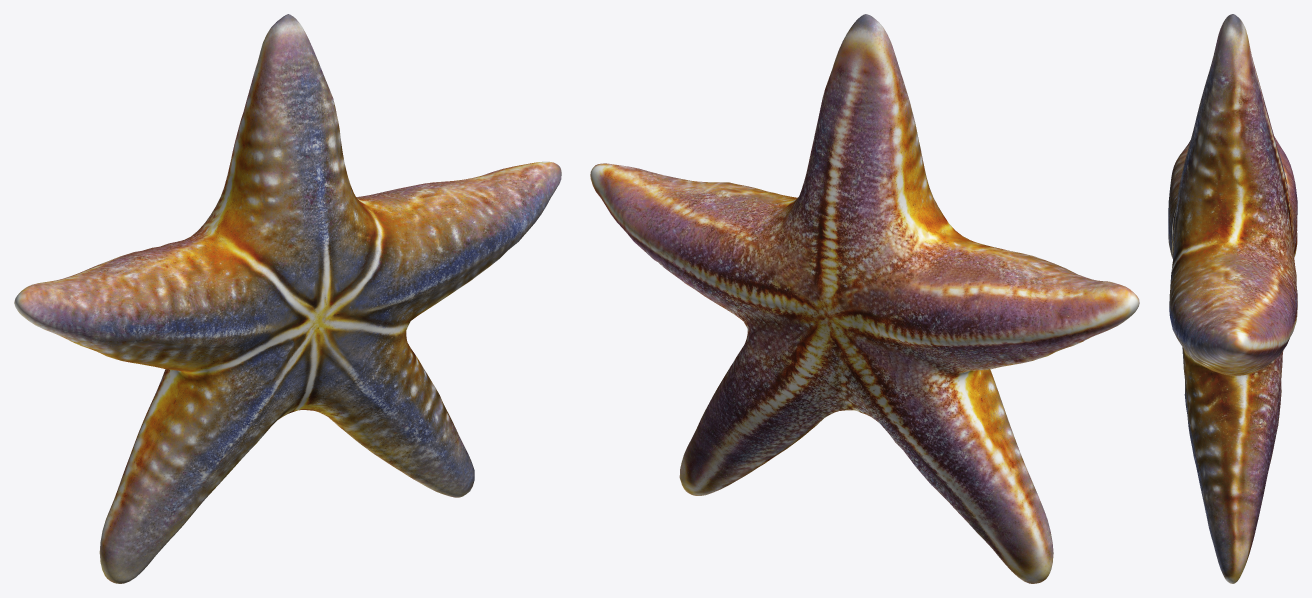
File: Starfish.obj
3 renders of one model, left to right at view 1: azimuth 30°, elevation 25°; view 2: azimuth 150°, elevation 25°; view 3: azimuth 270°, elevation 25°, orthographic. The views are drawn at different scales.
Parts seen in each view (by area): view 1: Starfish_Quad; view 2: Starfish_Quad; view 3: Starfish_Quad.
Boxes of the visible parts, x1,y1,x2,y2 form: Starfish_Quad: (14, 14, 561, 583); Starfish_Quad: (590, 14, 1139, 583); Starfish_Quad: (1168, 14, 1297, 583).
Bounding box in the file's own units: 0.2074 × 0.1925 × 0.0458.
